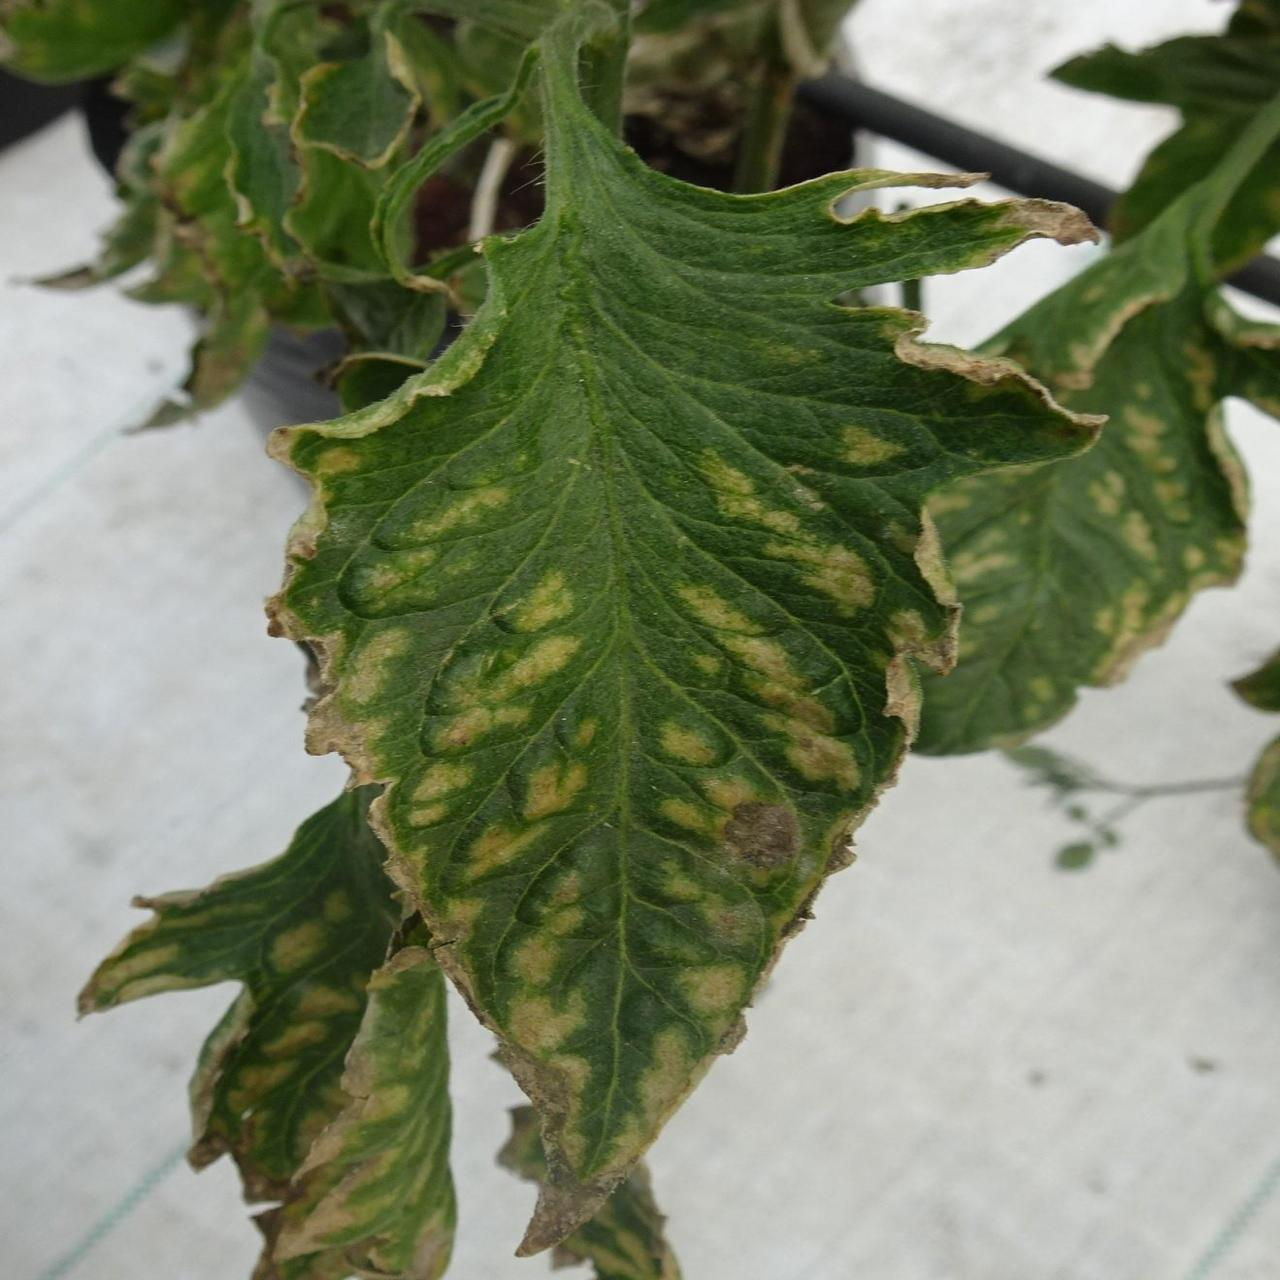T_L_R: (273, 19, 1099, 1254), (80, 791, 457, 1280)
